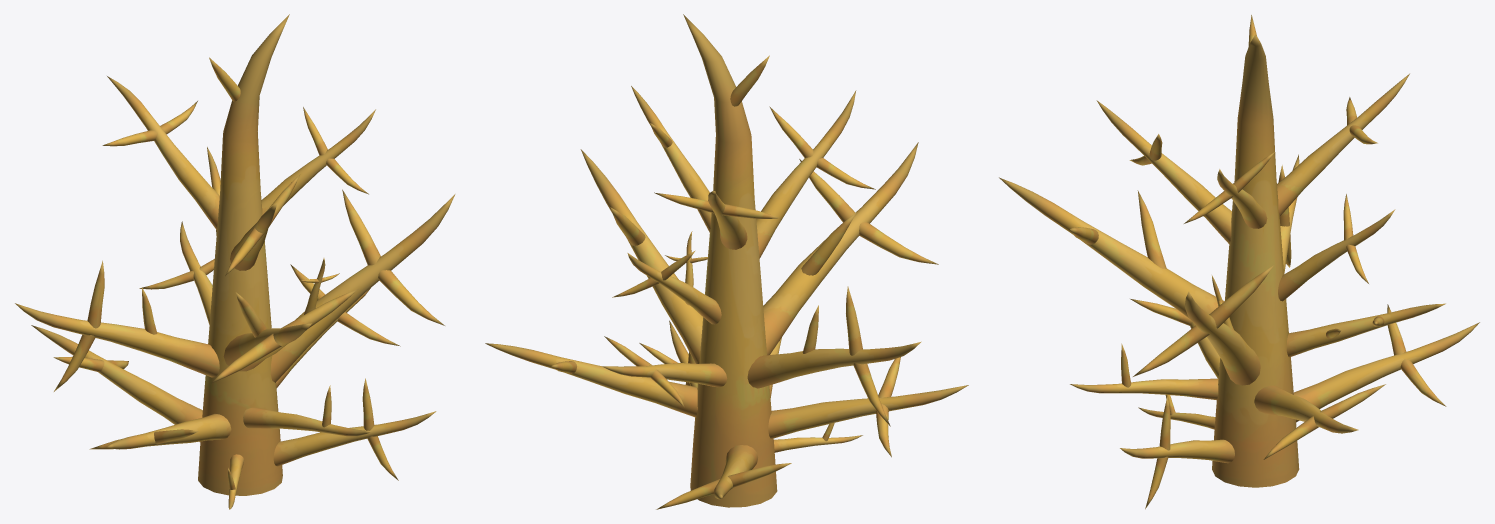
Rendered from SM_coral4.fbx.
The picture shows the model from 3 angles, left to right: view 1: azimuth 30°, elevation 25°; view 2: azimuth 150°, elevation 25°; view 3: azimuth 270°, elevation 25°; orthographic projection. The views are drawn at different scales.
Parts seen in each view (by area): view 1: coral4; view 2: coral4; view 3: coral4.
Part boxes in pixels (x1,y1,x2,y2): coral4: (15, 14, 455, 509); coral4: (485, 14, 968, 509); coral4: (999, 15, 1479, 509).
Size of the model in its own units: 75.21 by 81.67 by 77.55.
